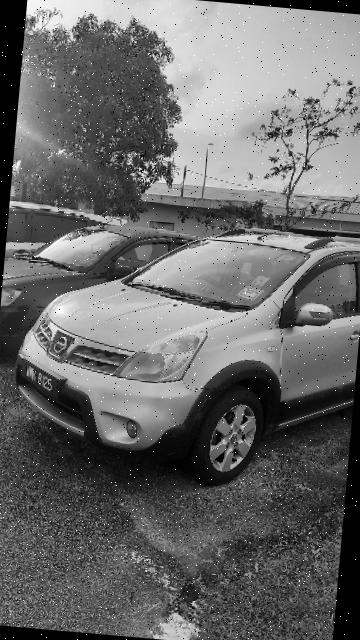License_Plate: (16, 352, 75, 406)
car: (1, 201, 360, 503)
